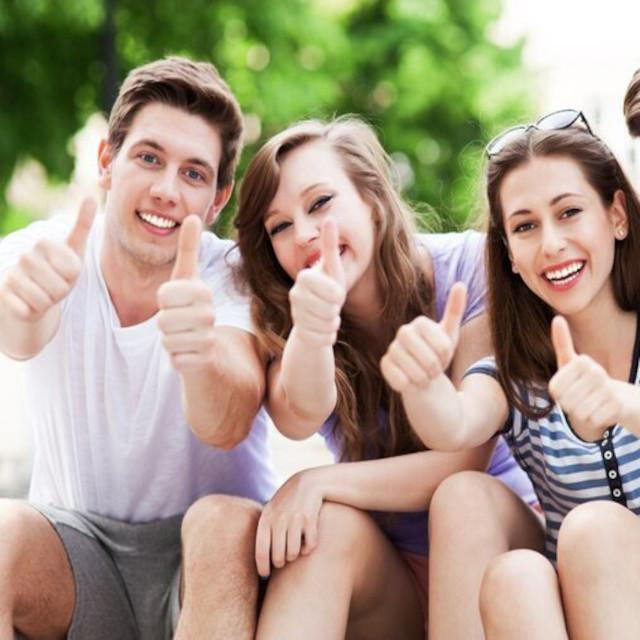kobieta: (251, 117, 498, 640), (494, 119, 639, 640)
mezczyzna: (21, 54, 253, 640)
